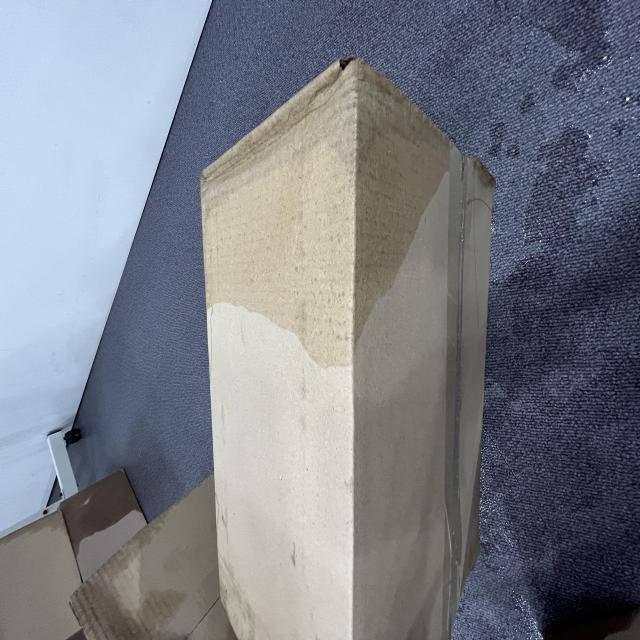wet: (220, 280, 423, 602)
